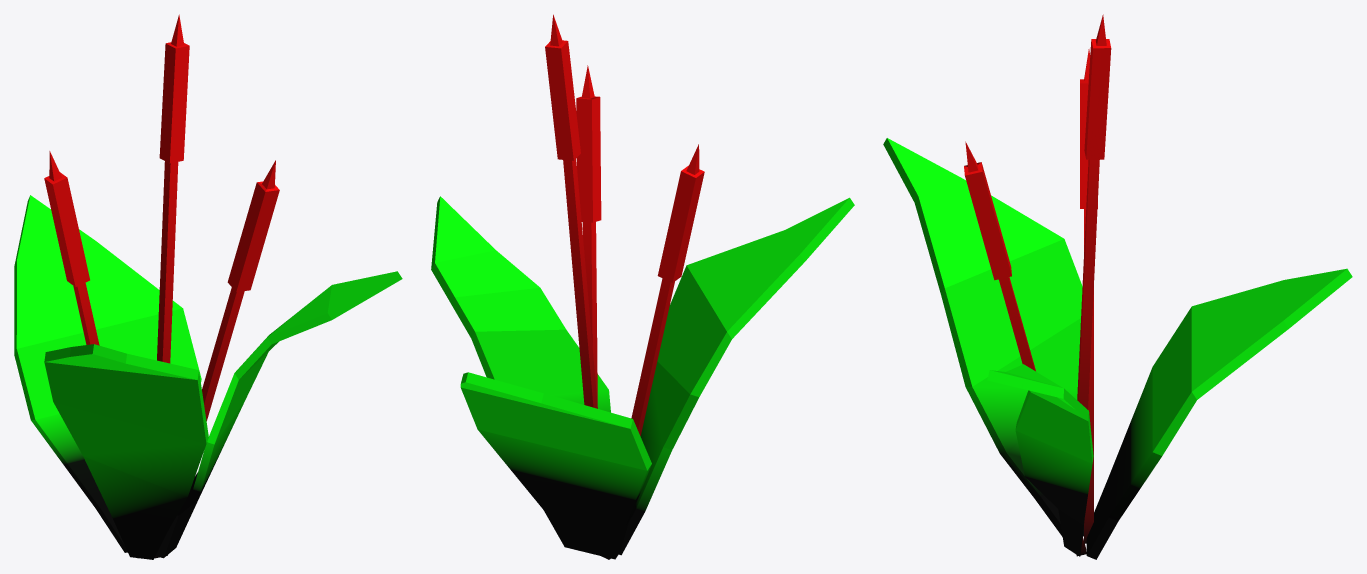
Rendered from SM_BigGrass_02.fbx.
The picture shows the model from 3 angles, left to right: view 1: azimuth 30°, elevation 25°; view 2: azimuth 150°, elevation 25°; view 3: azimuth 270°, elevation 25°; orthographic projection. The views are drawn at different scales.
Visible parts, largest first — view 1: quickmaterial1; view 2: quickmaterial1; view 3: quickmaterial1.
Boxes of the visible parts, left/top/right/bottom form: quickmaterial1: left=14, top=14, right=402, bottom=559; quickmaterial1: left=431, top=14, right=854, bottom=559; quickmaterial1: left=883, top=14, right=1352, bottom=559.
Bounding box in the file's own units: 65.98 × 92.42 × 70.89.
